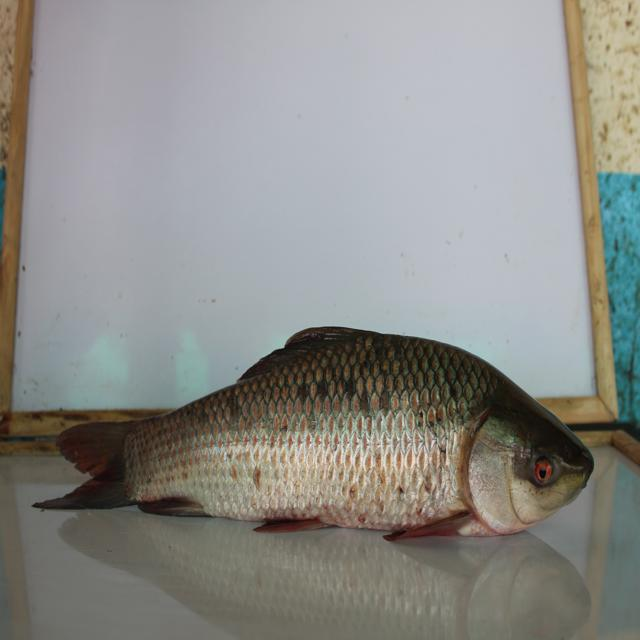Rohu: (31, 326, 593, 568)
